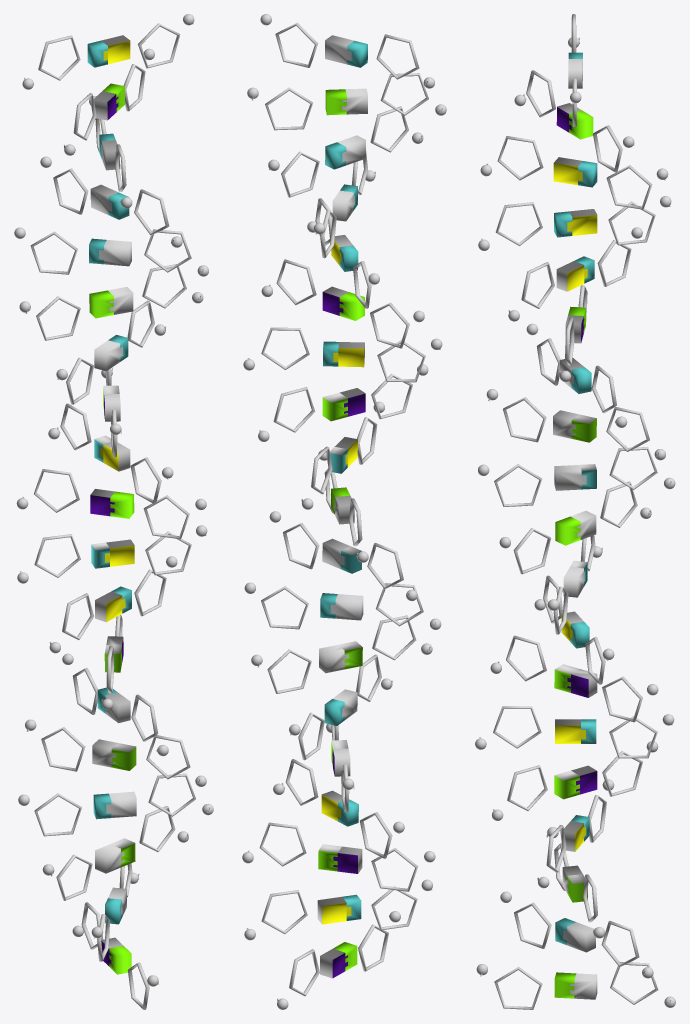
The model's file is dna.obj.
The picture shows the model from 3 angles, left to right: view 1: azimuth 30°, elevation 25°; view 2: azimuth 150°, elevation 25°; view 3: azimuth 270°, elevation 25°; orthographic projection.
Parts seen in each view (by area): view 1: Mesh104 Group_1_1 Model, Mesh94 Group_1_1 Model, Mesh95 Group_1_1 Model, Mesh102 Group_1_1 Model, Mesh107 Group_1_1 Model, Mesh105 Group_1_1 Model, Mesh98 Group_1_1 Model, Mesh71 Group_1_1 Model, Mesh97 Group_1_1 Model, Mesh101 Group_1_1 Model, Mesh100 Group_1_1 Model, Mesh85 Group_1_1 Model (+7 smaller); view 2: Mesh71 Group_1_1 Model, Mesh106 Group_1_1 Model, Mesh132 Group_1_1 Model, Mesh103 Group_1_1 Model, Mesh42 Group_1_1 Model, Mesh97 Group_1_1 Model, Mesh107 Group_1_1 Model, Mesh100 Group_1_1 Model, Mesh94 Group_1_1 Model, Mesh59 Group_1_1 Model, Mesh96 Group_1_1 Model, Mesh102 Group_1_1 Model (+7 smaller); view 3: Mesh96 Group_1_1 Model, Mesh104 Group_1_1 Model, Mesh132 Group_1_1 Model, Mesh59 Group_1_1 Model, Mesh101 Group_1_1 Model, Mesh103 Group_1_1 Model, Mesh95 Group_1_1 Model, Mesh85 Group_1_1 Model, Mesh99 Group_1_1 Model, Mesh106 Group_1_1 Model, Mesh98 Group_1_1 Model, Mesh42 Group_1_1 Model (+7 smaller).
Part boxes in pixels (x1,y1,x2,y2): Mesh104 Group_1_1 Model: [92, 739, 136, 770]; Mesh94 Group_1_1 Model: [89, 287, 133, 318]; Mesh95 Group_1_1 Model: [90, 489, 134, 518]; Mesh102 Group_1_1 Model: [91, 539, 134, 568]; Mesh107 Group_1_1 Model: [87, 35, 130, 67]; Mesh105 Group_1_1 Model: [93, 791, 136, 819]; Mesh98 Group_1_1 Model: [89, 238, 131, 266]; Mesh71 Group_1_1 Model: [95, 838, 135, 873]; Mesh97 Group_1_1 Model: [95, 586, 131, 622]; Mesh101 Group_1_1 Model: [90, 184, 129, 219]; Mesh100 Group_1_1 Model: [94, 335, 128, 371]; Mesh85 Group_1_1 Model: [94, 435, 130, 471]; Mesh71 Group_1_1 Model: [318, 844, 362, 873]; Mesh106 Group_1_1 Model: [317, 894, 361, 924]; Mesh132 Group_1_1 Model: [322, 388, 365, 421]; Mesh103 Group_1_1 Model: [319, 641, 362, 673]; Mesh42 Group_1_1 Model: [325, 88, 367, 115]; Mesh97 Group_1_1 Model: [320, 593, 363, 620]; Mesh107 Group_1_1 Model: [325, 35, 367, 67]; Mesh100 Group_1_1 Model: [323, 341, 364, 367]; Mesh94 Group_1_1 Model: [322, 286, 364, 320]; Mesh59 Group_1_1 Model: [325, 135, 365, 169]; Mesh96 Group_1_1 Model: [320, 942, 357, 978]; Mesh102 Group_1_1 Model: [322, 538, 361, 573]; Mesh96 Group_1_1 Model: [554, 972, 597, 999]; Mesh104 Group_1_1 Model: [554, 765, 597, 799]; Mesh132 Group_1_1 Model: [553, 410, 596, 442]; Mesh59 Group_1_1 Model: [553, 157, 597, 187]; Mesh101 Group_1_1 Model: [554, 209, 597, 237]; Mesh103 Group_1_1 Model: [554, 664, 597, 697]; Mesh95 Group_1_1 Model: [555, 510, 596, 545]; Mesh85 Group_1_1 Model: [554, 464, 596, 490]; Mesh99 Group_1_1 Model: [555, 719, 596, 743]; Mesh106 Group_1_1 Model: [555, 918, 595, 952]; Mesh98 Group_1_1 Model: [556, 256, 594, 291]; Mesh42 Group_1_1 Model: [556, 103, 593, 139].
Bounding box in the file's own units: 1.23 × 6.34 × 1.2.
